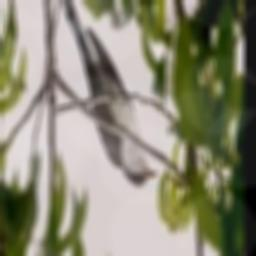Cuckoo: (55, 0, 157, 188)
